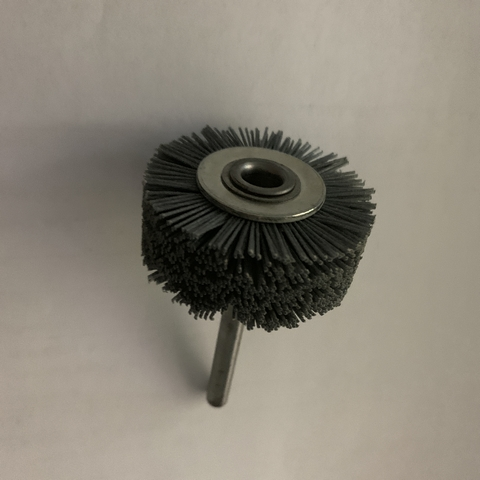Wheel Brush: (124, 91, 389, 421), (142, 119, 395, 410), (99, 118, 401, 345), (178, 100, 374, 399)
